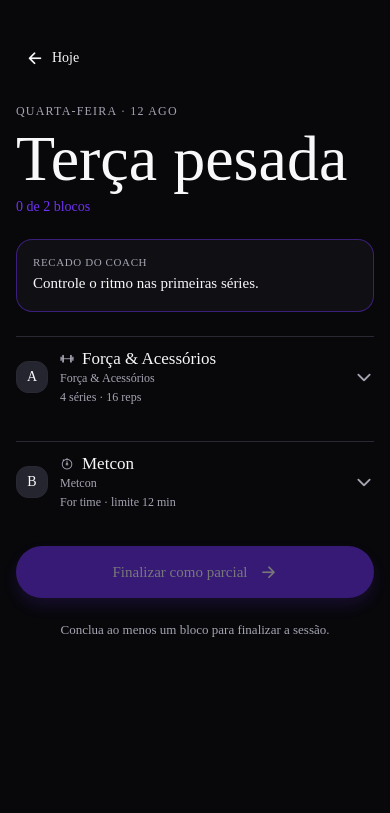
Test: AthleteSessionScreen › recusa o envio sem tempo e explica o que falta
Expected: the element with test id "athlete-block-block-strength" is shown, [16,336,374,417]
Step 1. Click the button with test id "athlete-block-header-block-metcon" → {"x": 32, "y": 482}, box [16,442,374,522]
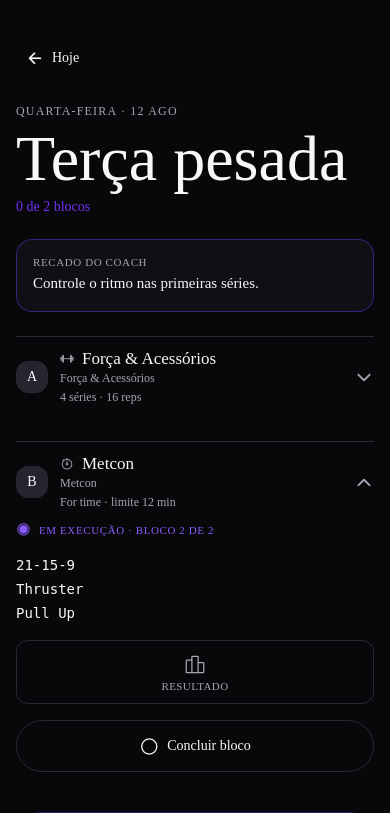
Step 2. Click the button with test id "athlete-block-action-results-block-metcon" → {"x": 195, "y": 672}, box [16,640,374,704]
(page scrolled)
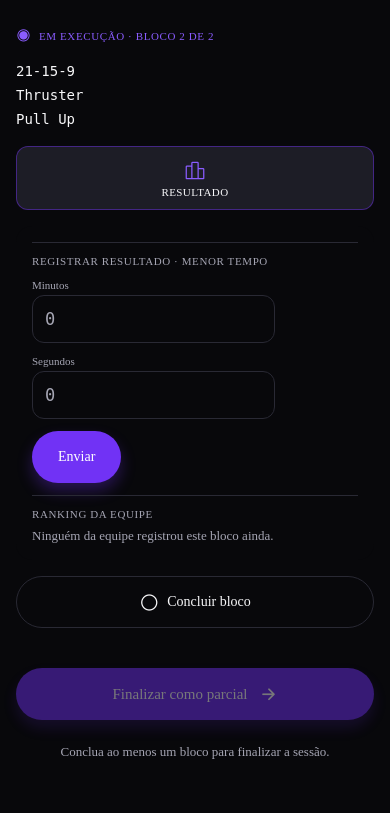
Step 3. Click the button with test id "score-block-metcon-submit" → {"x": 77, "y": 457}, box [32,431,121,483]
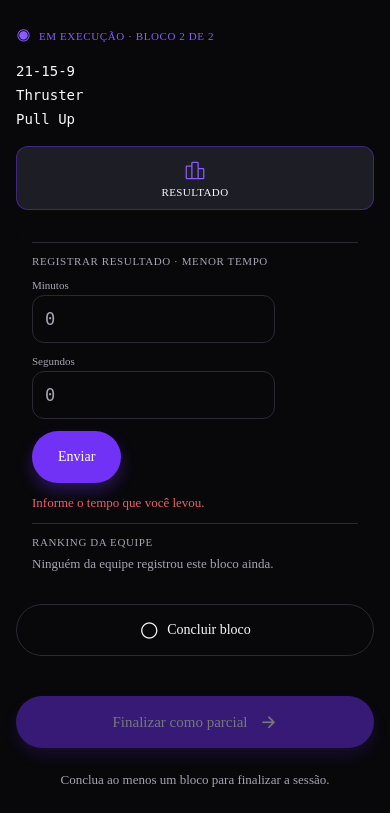
Now the message with test id "score-block-metcon-error" reads "Informe o tempo que você levou.", box [32,495,205,510]
